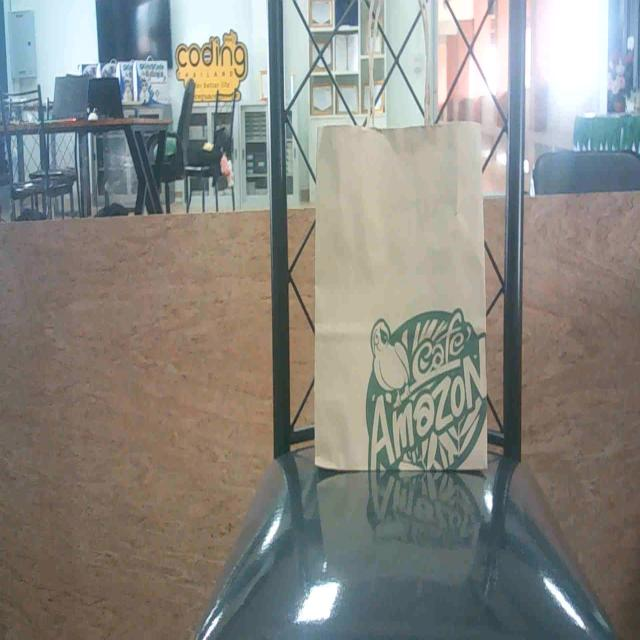bag: (320, 129, 486, 464)
